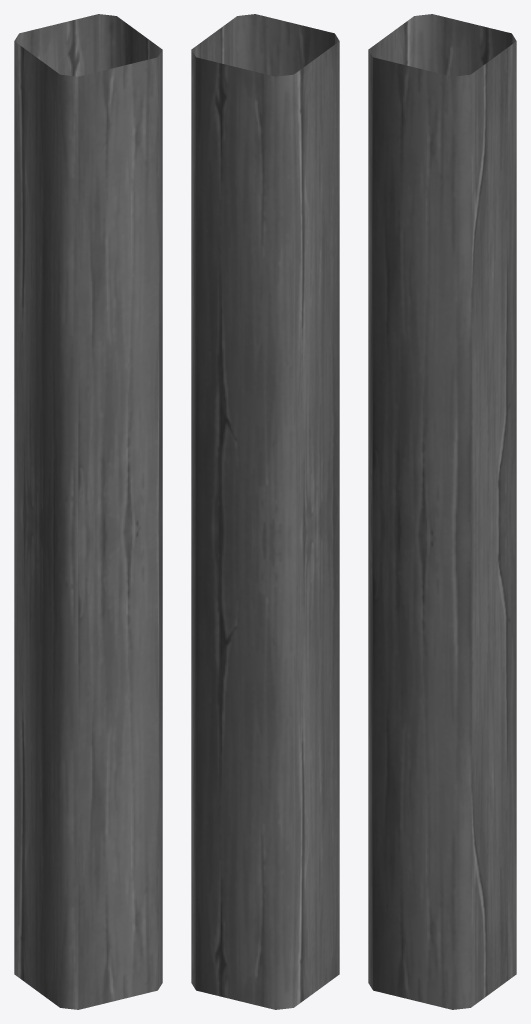
Rendered from Pillar02.fbx.
3 renders of one model, left to right at view 1: azimuth 30°, elevation 25°; view 2: azimuth 150°, elevation 25°; view 3: azimuth 330°, elevation 25°, orthographic.
Visible parts, largest first — view 1: Pillar02; view 2: Pillar02; view 3: Pillar02.
Boxes of the visible parts, box(x1,y1,x2,y2) form: Pillar02: box(14, 14, 162, 1009); Pillar02: box(191, 14, 339, 1009); Pillar02: box(368, 14, 516, 1009).
Size of the model in its own units: 0.115 by 1 by 0.115.
